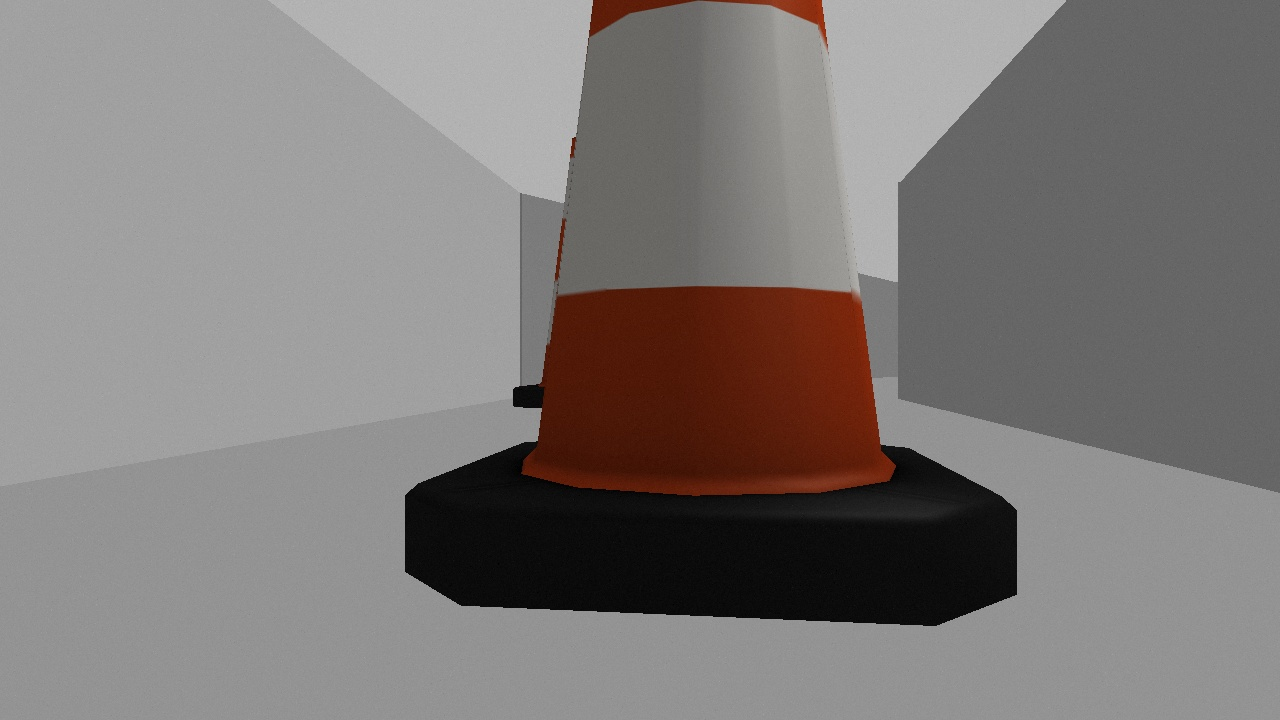barricade: (360, 1, 1057, 645)
